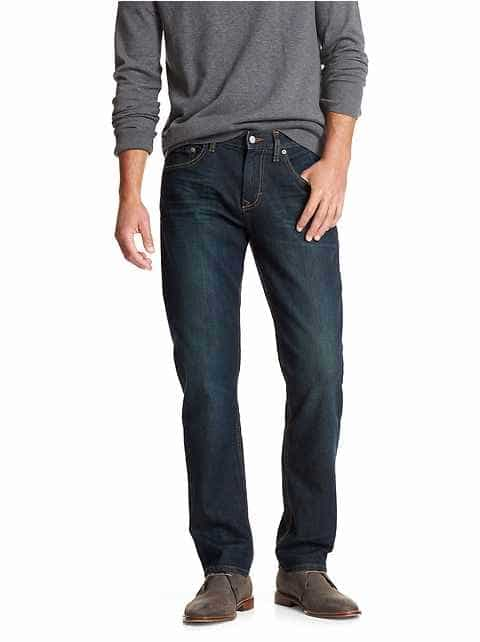jeans: (145, 130, 375, 583)
